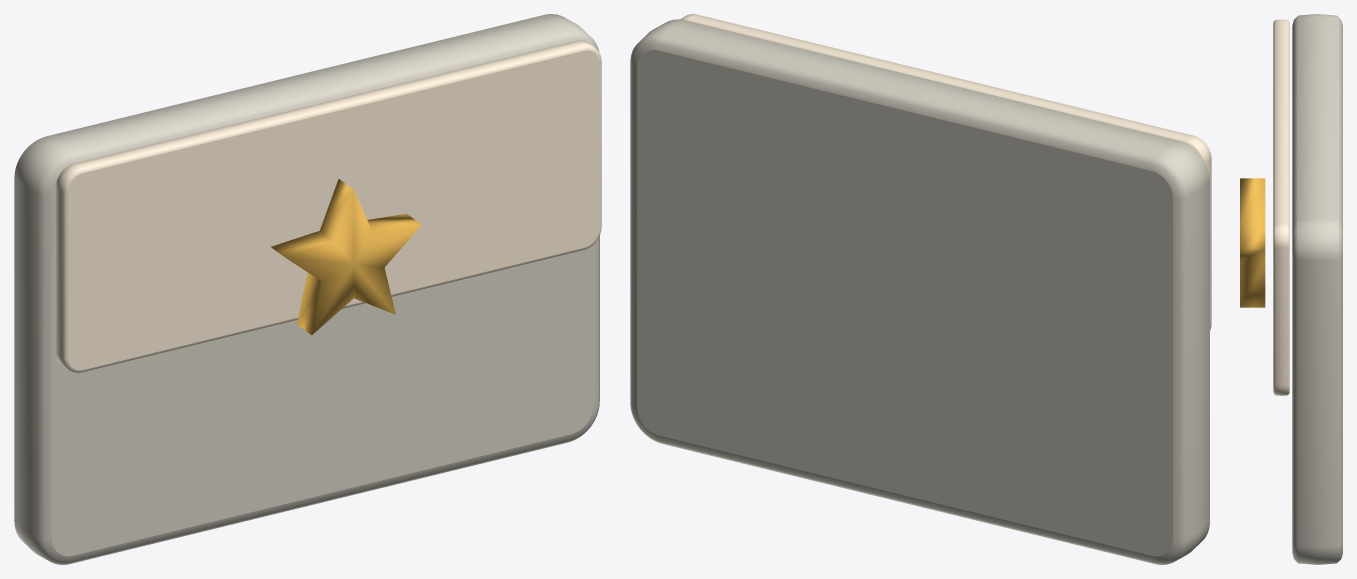
Rendered from envelope.glb.
The picture shows the model from 3 angles, left to right: view 1: azimuth 30°, elevation 25°; view 2: azimuth 150°, elevation 25°; view 3: azimuth 270°, elevation 25°; orthographic projection. The views are drawn at different scales.
Parts seen in each view (by area): view 1: envelope-paper, envelope-lid, seal; view 2: envelope-paper, envelope-lid; view 3: envelope-paper, envelope-lid, seal.
Boxes of the visible parts, bbox=[...] form: envelope-paper: bbox=[14, 14, 599, 564]; envelope-lid: bbox=[56, 40, 601, 373]; seal: bbox=[271, 179, 421, 335]; envelope-paper: bbox=[630, 19, 1209, 564]; envelope-lid: bbox=[680, 14, 1211, 329]; envelope-paper: bbox=[1292, 14, 1342, 564]; envelope-lid: bbox=[1273, 19, 1289, 395]; seal: bbox=[1240, 178, 1265, 307].
Size of the model in its own units: 1.5 by 1.05 by 0.285.
